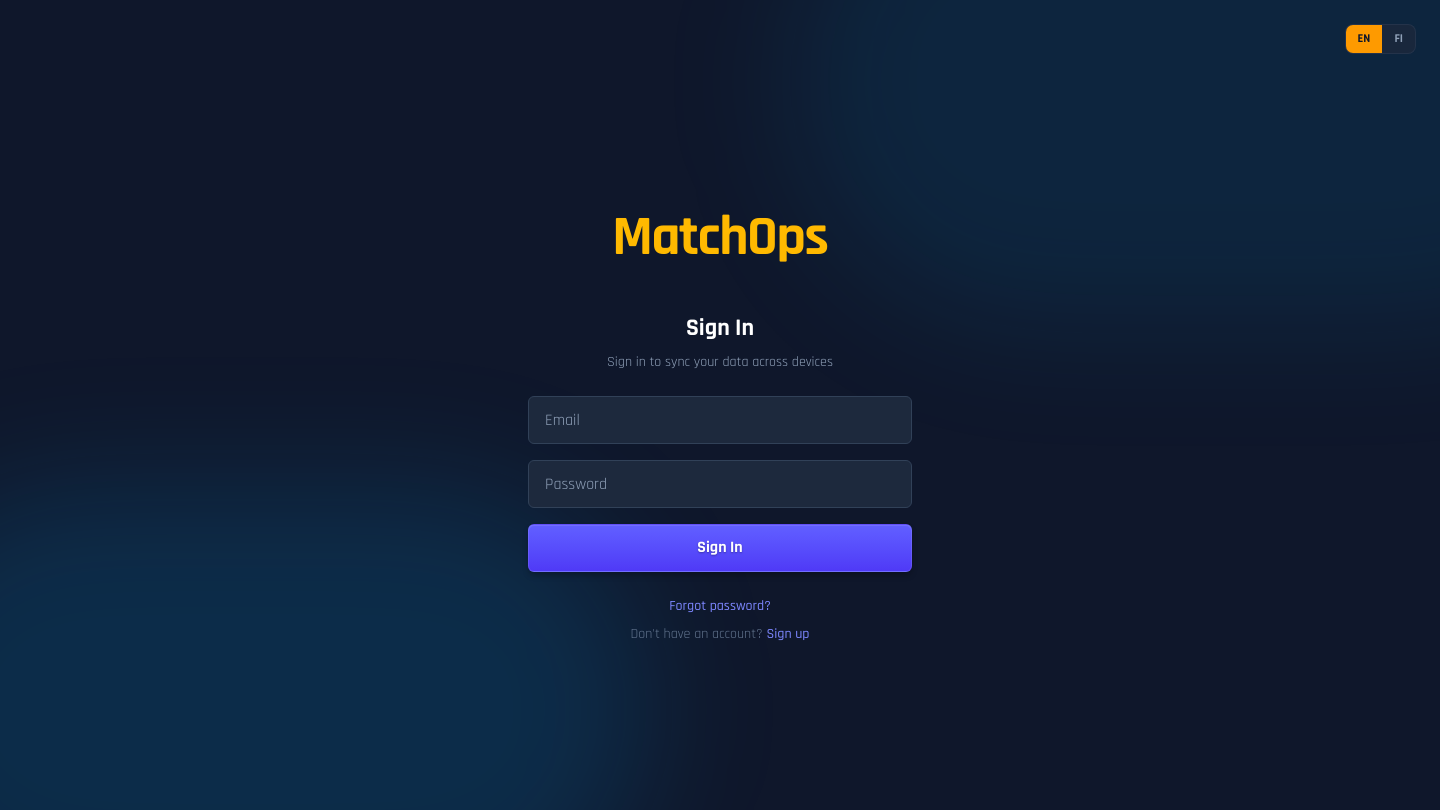
Test: LoginScreen › sign in mode › should show loading state during sign in
Type "test@example.com" into the field with placeholder "Email" at (720, 420), box [528, 396, 912, 444]
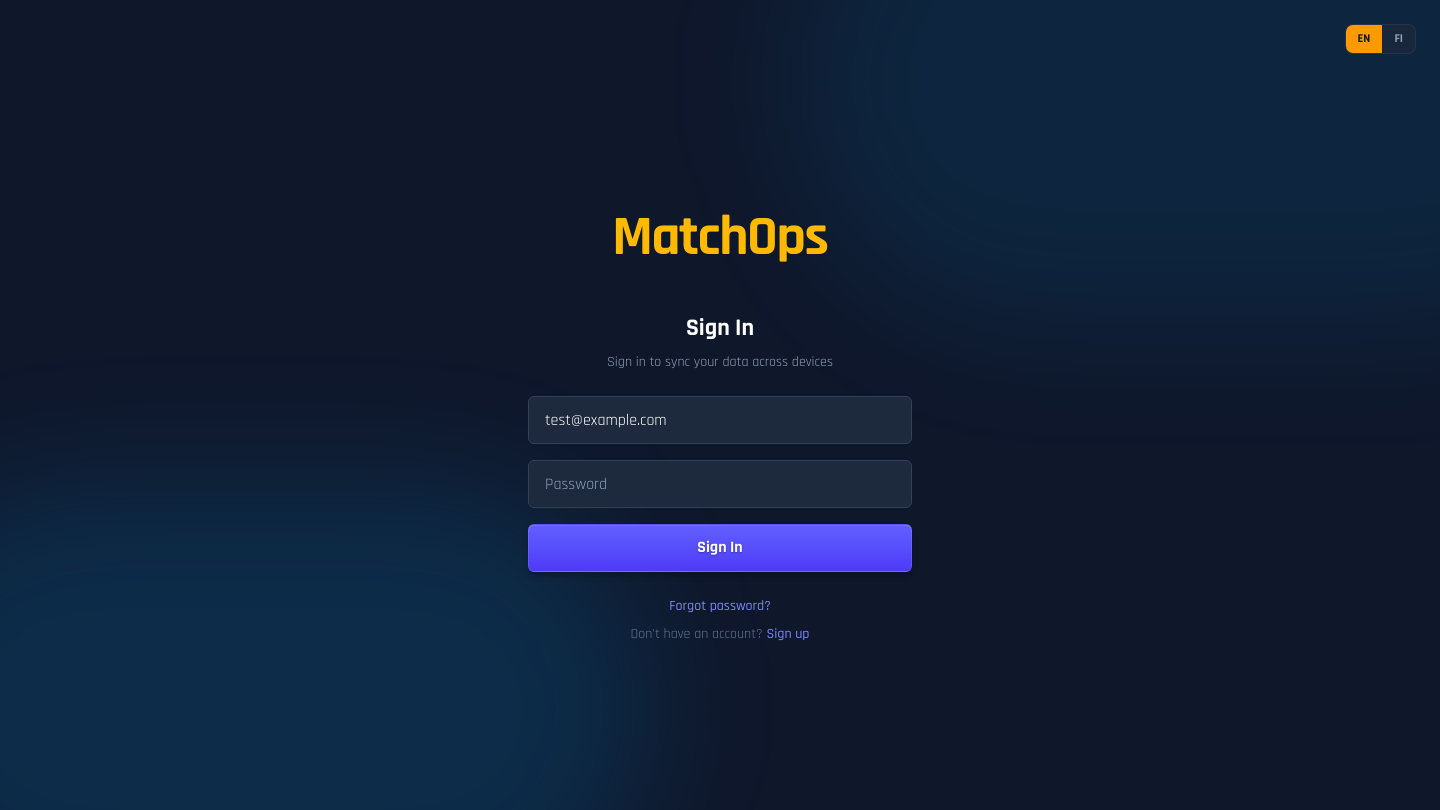
Type "password123" into the password field with placeholder "Password" at (720, 484), box [528, 460, 912, 508]
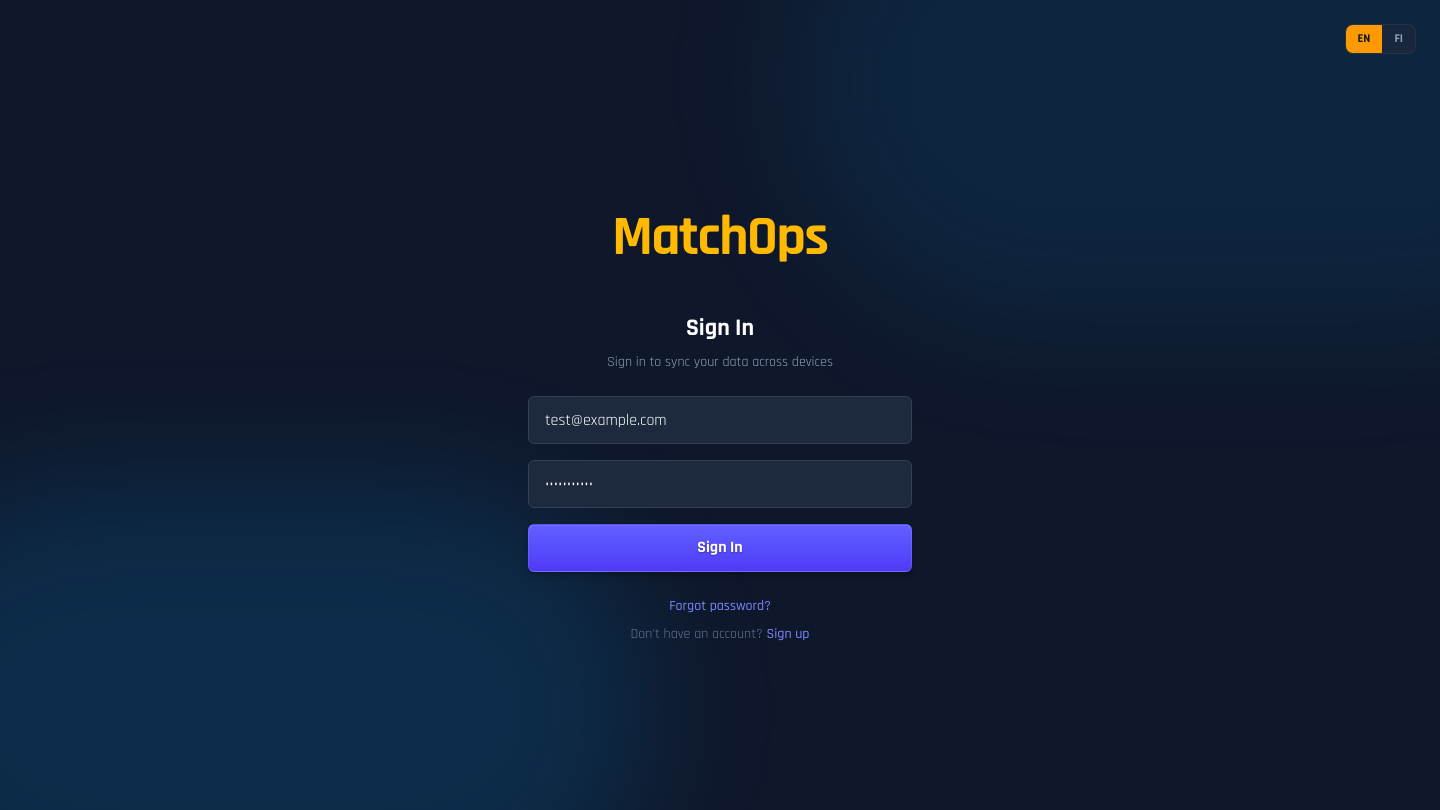
Click the button "Sign In" at (720, 548), box [528, 524, 912, 572]
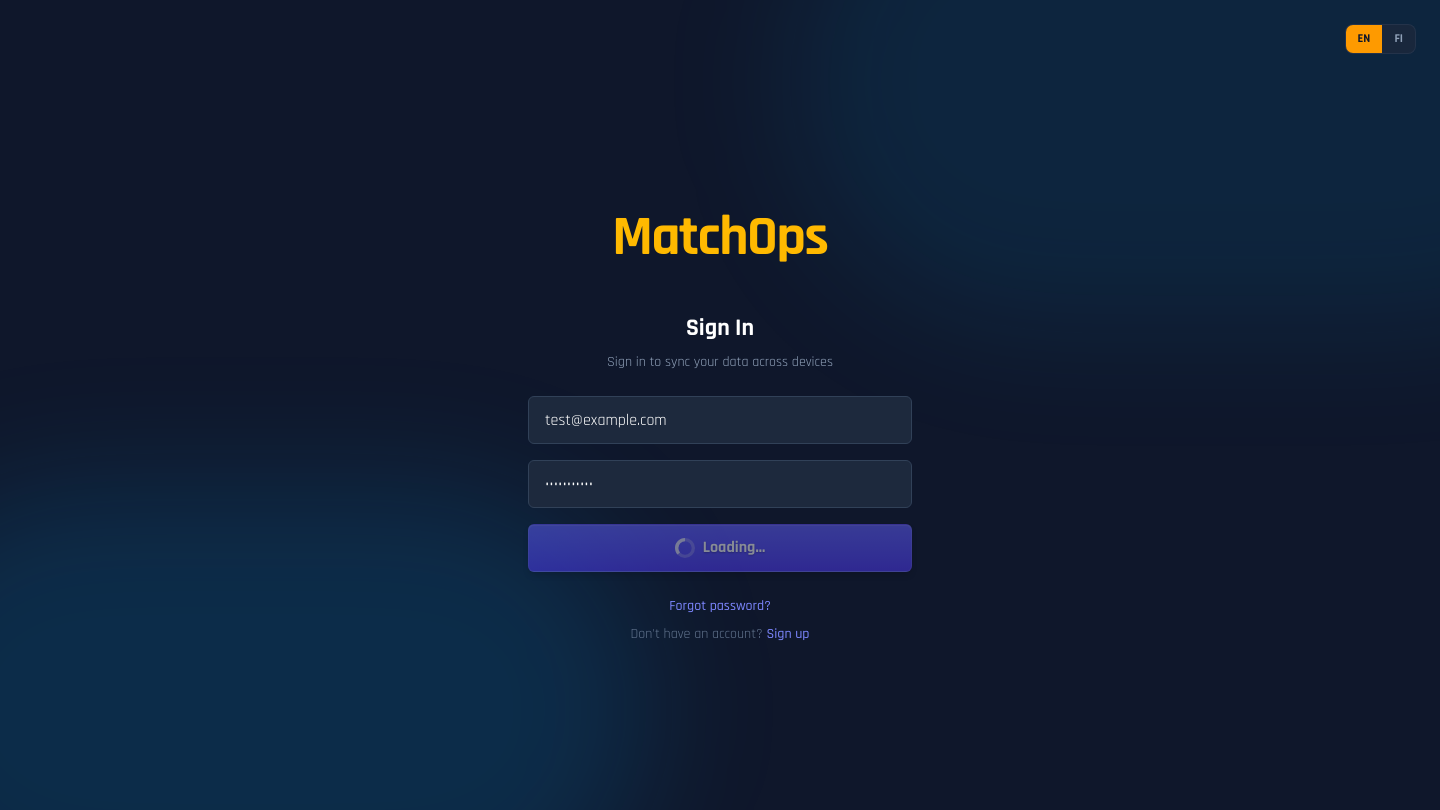
Check: the text "Loading..." is shown, box [675, 537, 765, 558]
